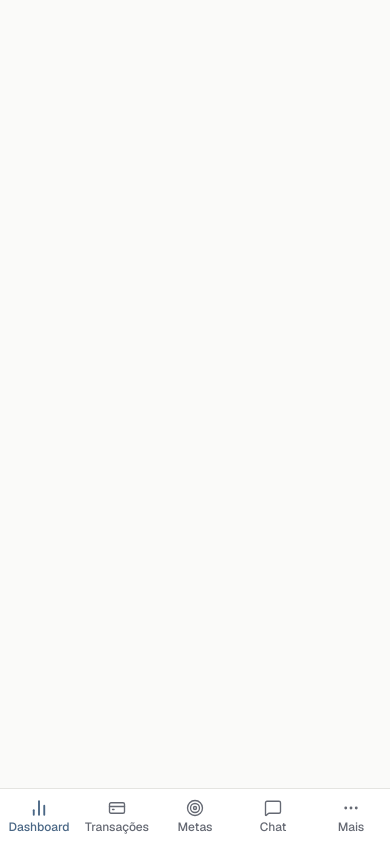
Test: BottomNav › Mais abre um painel com Insights, OCR, Configurações e o seletor de tema
The width and height of the screenshot is (390, 844).
Click the button "Mais": x=351, y=816 x1=312 y1=789 x2=389 y2=843
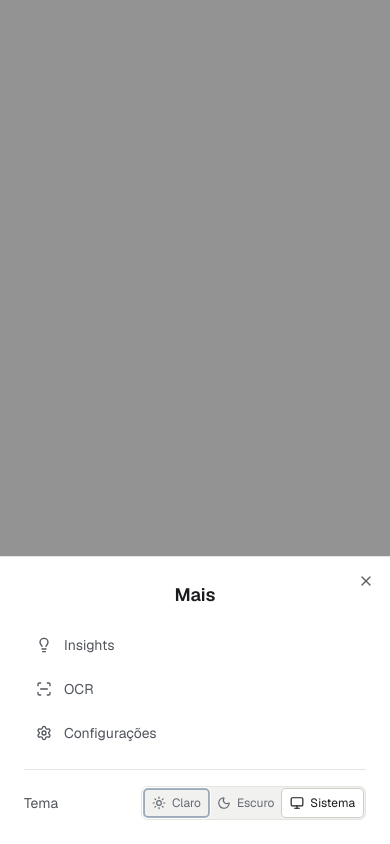
Now the element "tema" is shown, box x1=141 y1=786 x2=366 y2=820
